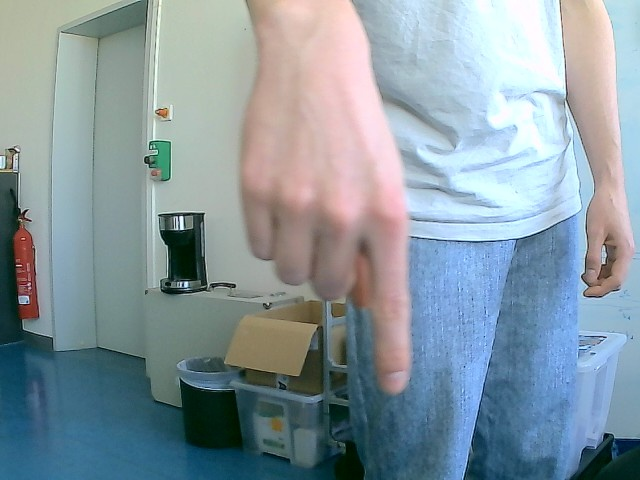down: (237, 1, 415, 396)
no_gesture: (577, 190, 638, 298)
